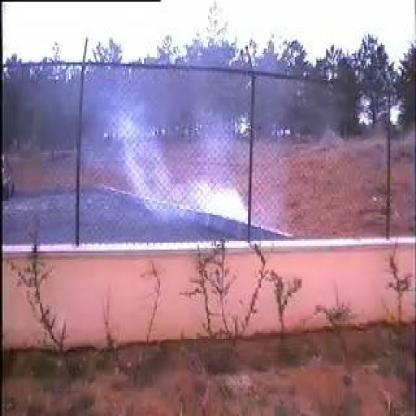-: (102, 90, 246, 232)
